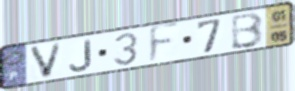3: (110, 31, 141, 68)
7: (195, 17, 225, 55)
B: (229, 10, 266, 51)
F: (147, 20, 181, 67)
J: (68, 38, 94, 73)
V: (27, 41, 65, 81)
